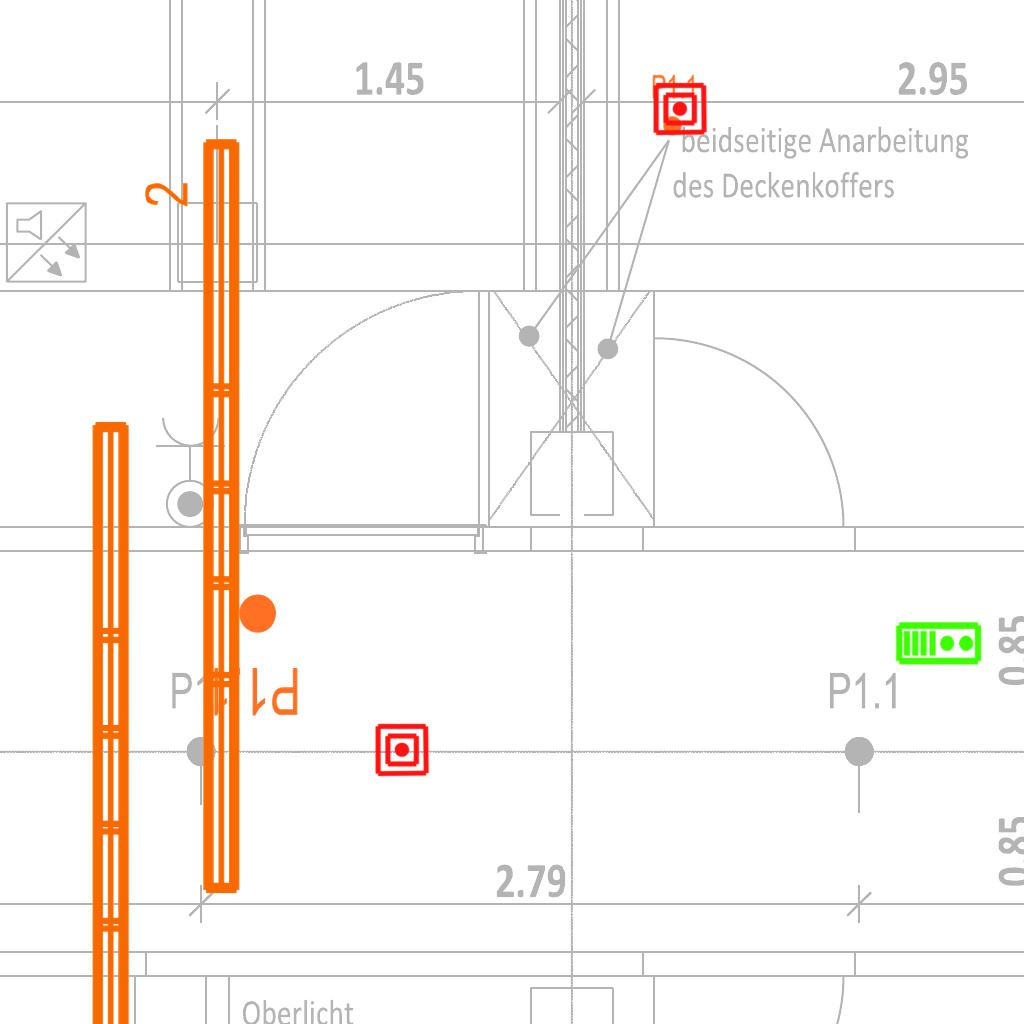Ambulanz_Pendelleuchte_LED: (140, 130, 252, 904), (80, 411, 192, 1024)
Downlight_LED_Einbauleuchten_Flur: (208, 591, 301, 719), (651, 73, 697, 137)
Gegensprechanlage_mit_Video: (895, 619, 983, 666)
NAM-Nichtautomatischer_Melder: (374, 722, 430, 778), (652, 81, 708, 137)
